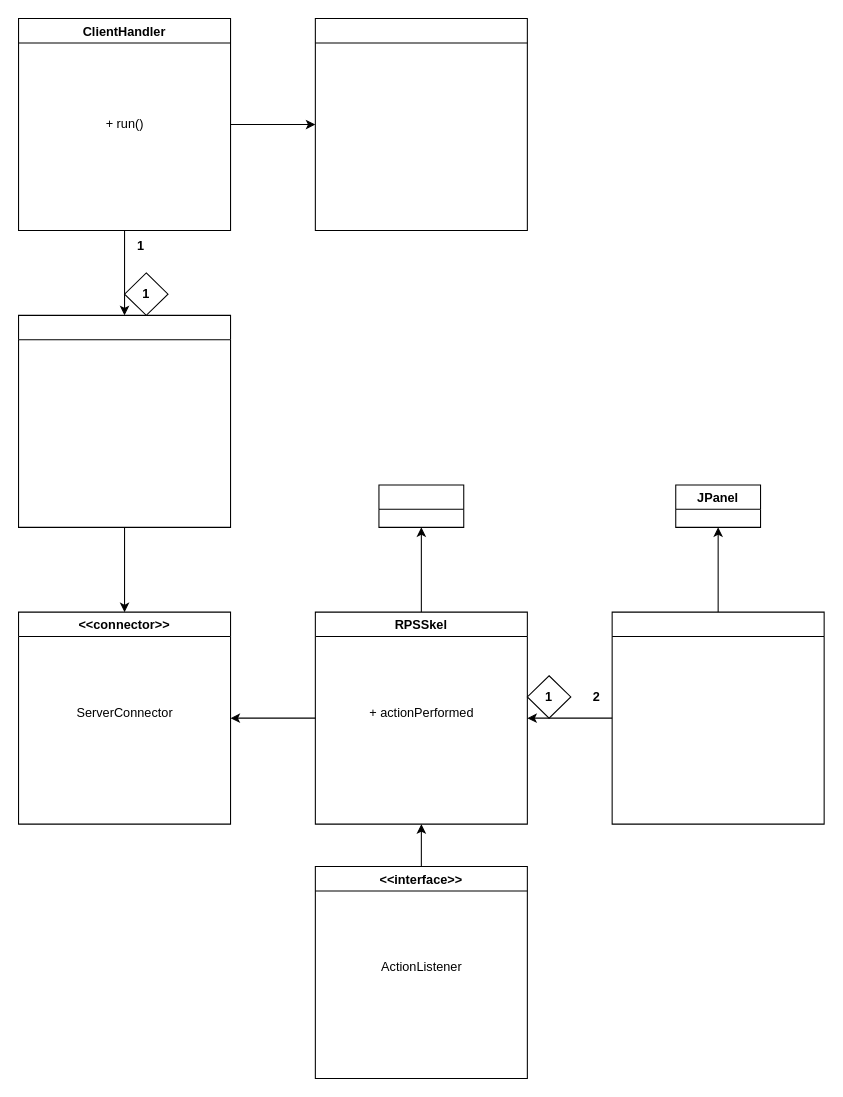
Some shapes in this 843 by 1097 pixel diagram are drawn without their labels. Each missing label, with the centre of its shape:
"Gameboard" belongs at (x=717, y=717).
"JFrame" belongs at (x=421, y=505).
"Server4713" belongs at (x=124, y=420).
"Thread" belongs at (x=420, y=124).
